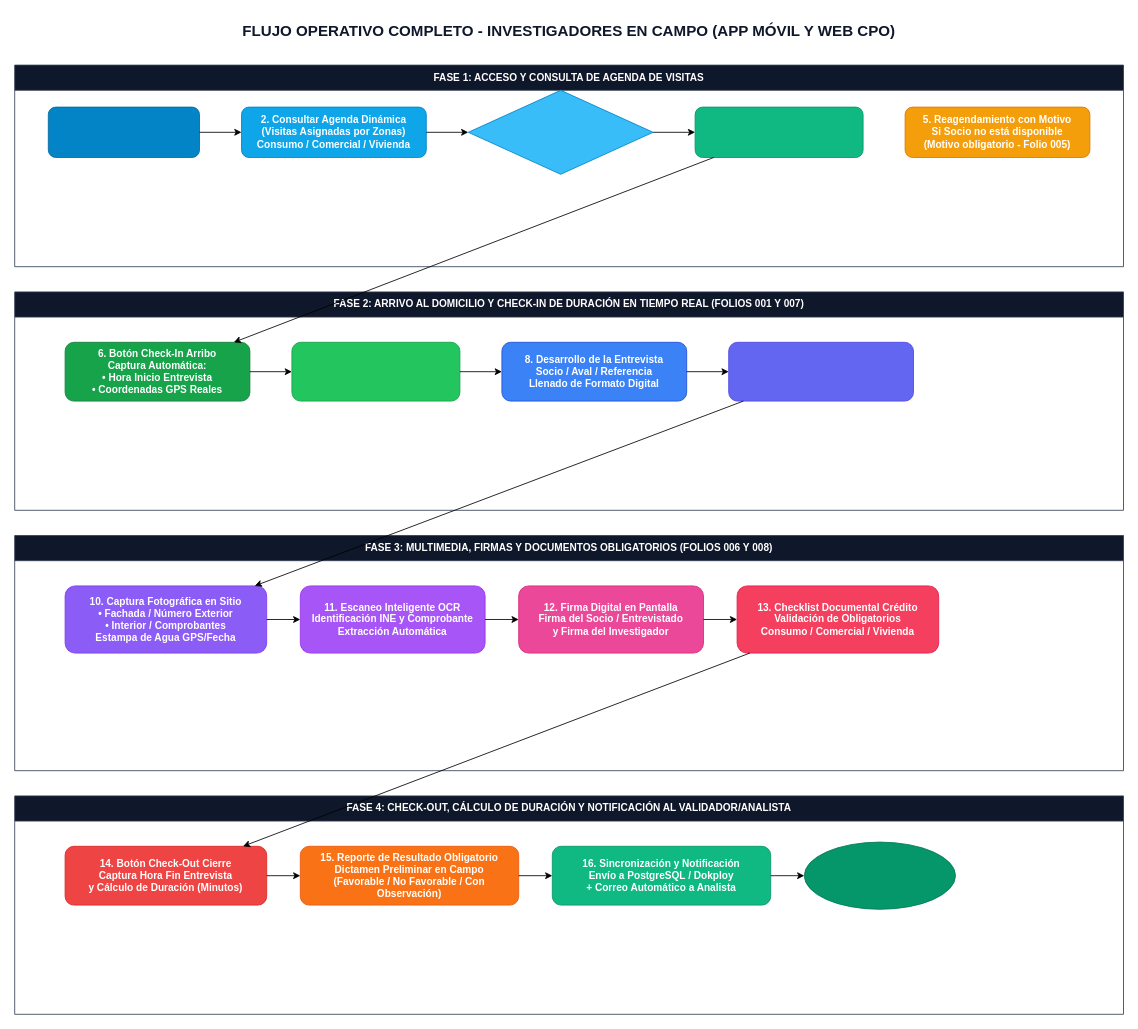
The diagram is 1138 pixels wide and 1029 high, and some of its shapes have lost their labels. The shapes that lost their labels are listed below. From the top down, each one's centre as x and y in pixels, then its label:
At [123,132]: "1. Inicio de Sesión (Email y Contraseña) JWT Auth".
At [560,131]: "3. Verificar Prevalidación ¿Domicilio Validado por Sucursal? (Folio 002)".
At [778,132]: "4. Ruta Optimizada GPS Integración Waze / Google Maps Navegación al Domicilio".
At [375,371]: "7. Selección de Gestión • Investigación de Crédito • Gestión de Cobranza".
At [821,371]: "9. Confirmación de Teléfono 2º Validación de 2º Contacto y Semáforo (Folio 003)".
At [879,875]: "17. Caso Finalizado Actualización de Dashboard y Mapeo GPS Real".
